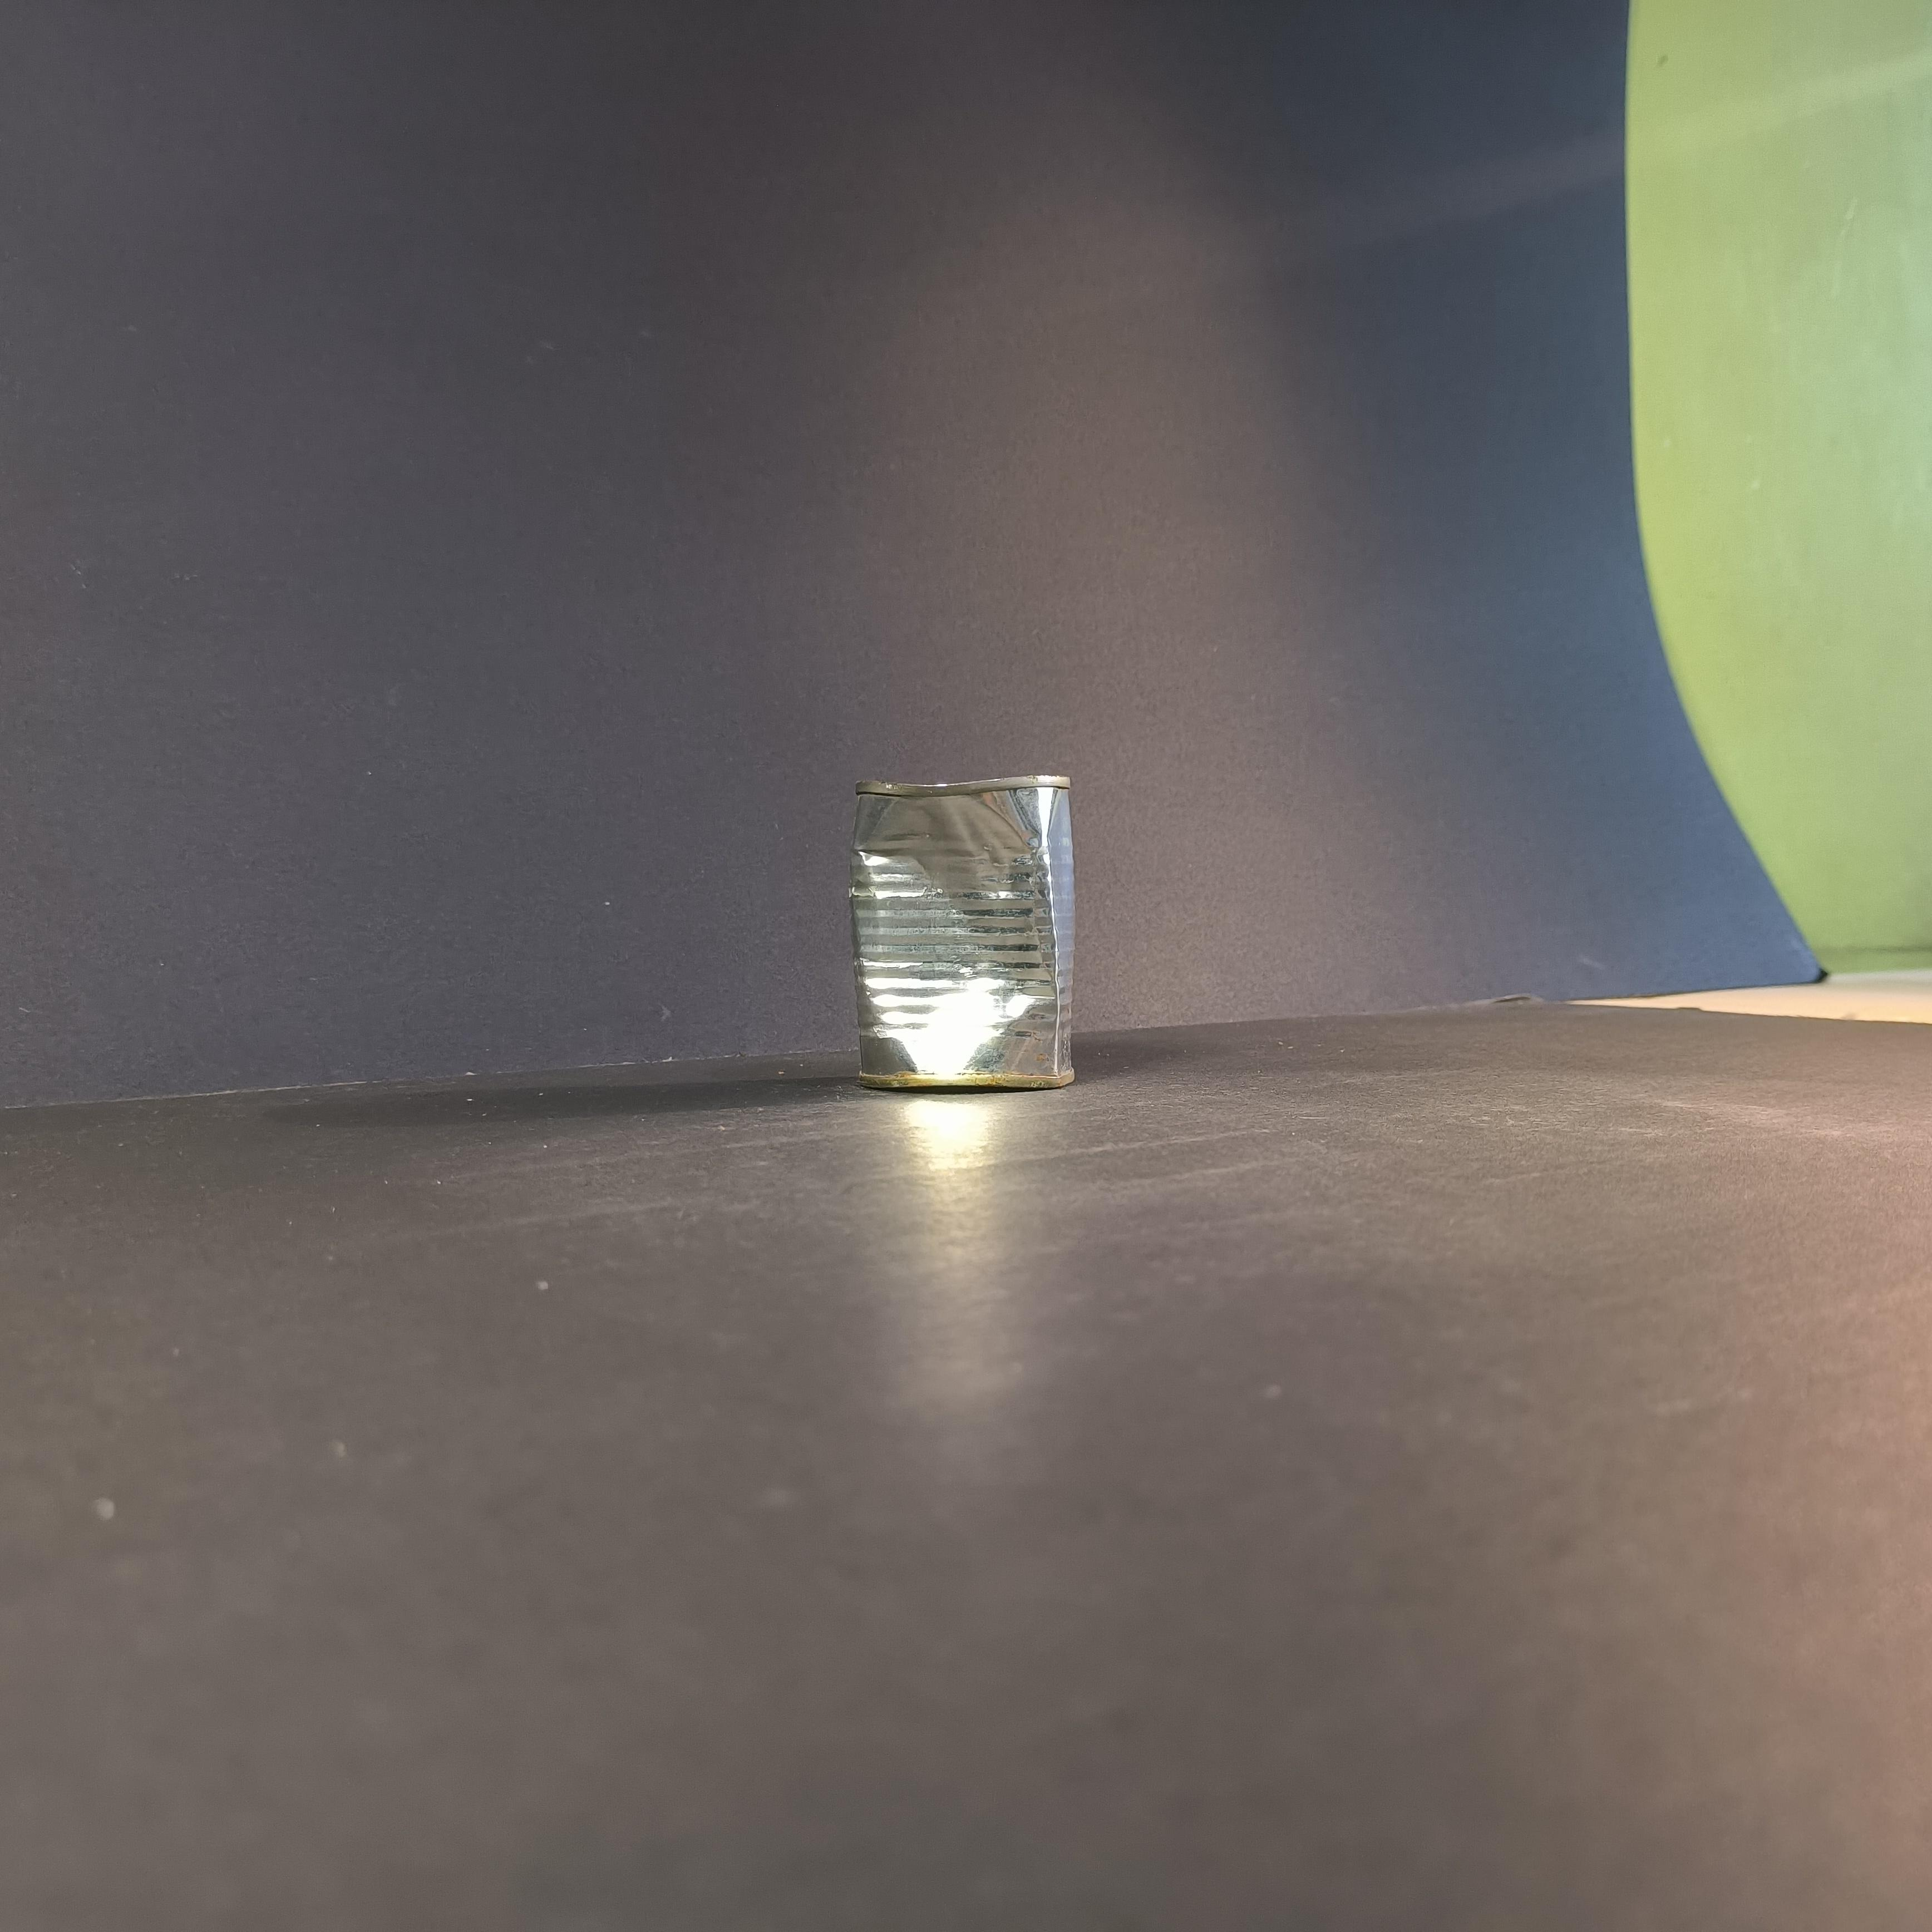Major Defect: (849, 773, 1076, 1088)
